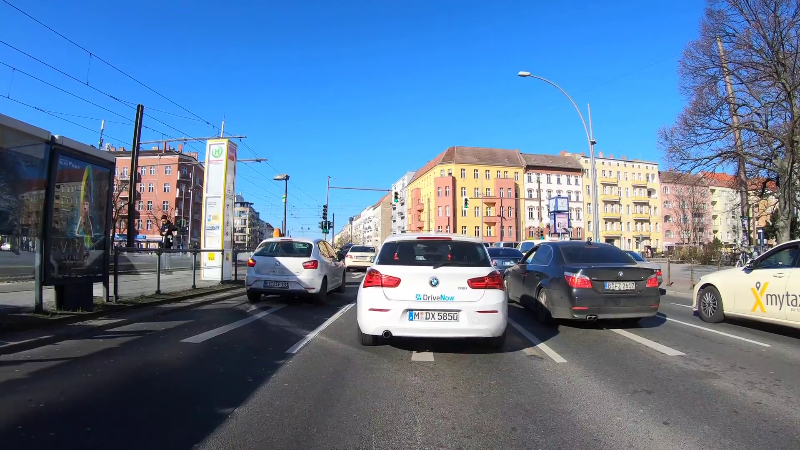Plate: (407, 309, 460, 322), (604, 280, 638, 292), (261, 278, 290, 288), (355, 255, 369, 261), (504, 260, 514, 265)
